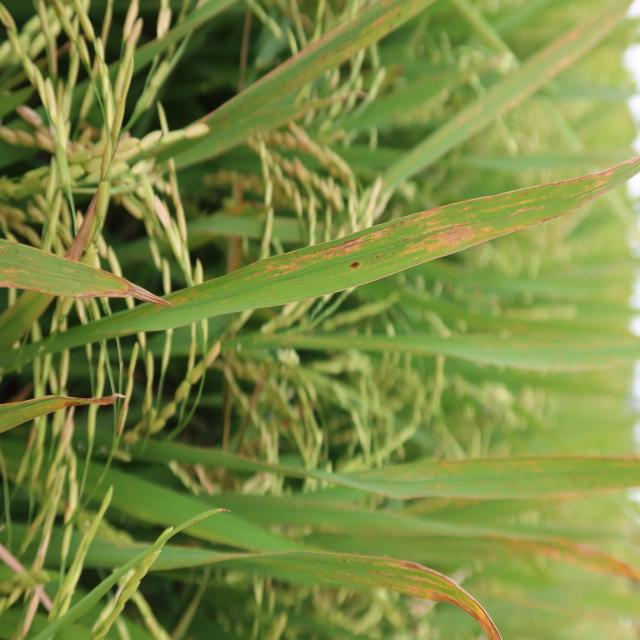Dom soc vi khuan: (333, 553, 500, 640), (254, 221, 399, 277), (394, 206, 512, 259), (577, 167, 614, 199), (168, 287, 211, 306), (471, 203, 514, 219), (509, 203, 546, 221), (125, 303, 165, 319), (462, 206, 474, 211)
